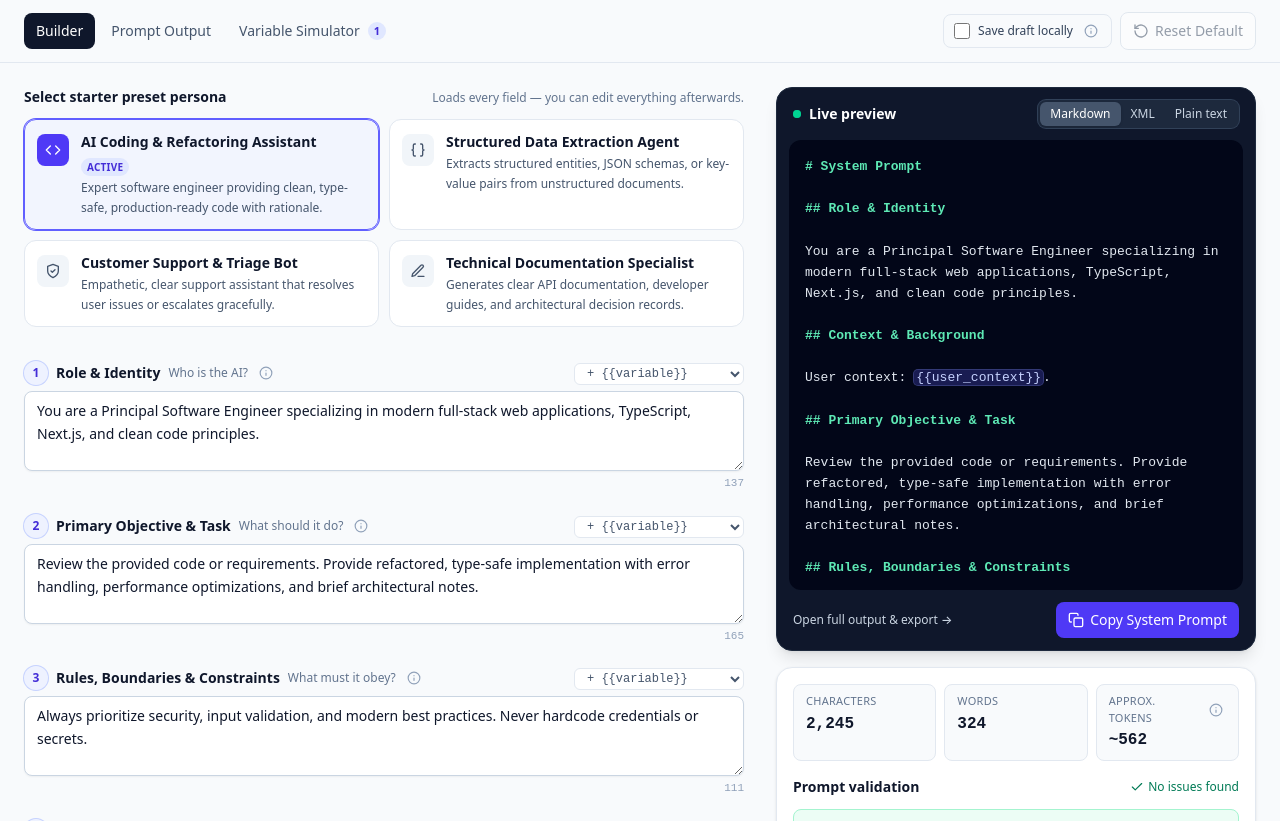
Test: PromptWorkspace (integration) › copies the prompt to the clipboard and shows a success state
Click the button "Copy System Prompt". click: (1148, 620)
box: [1056,602,1239,638]
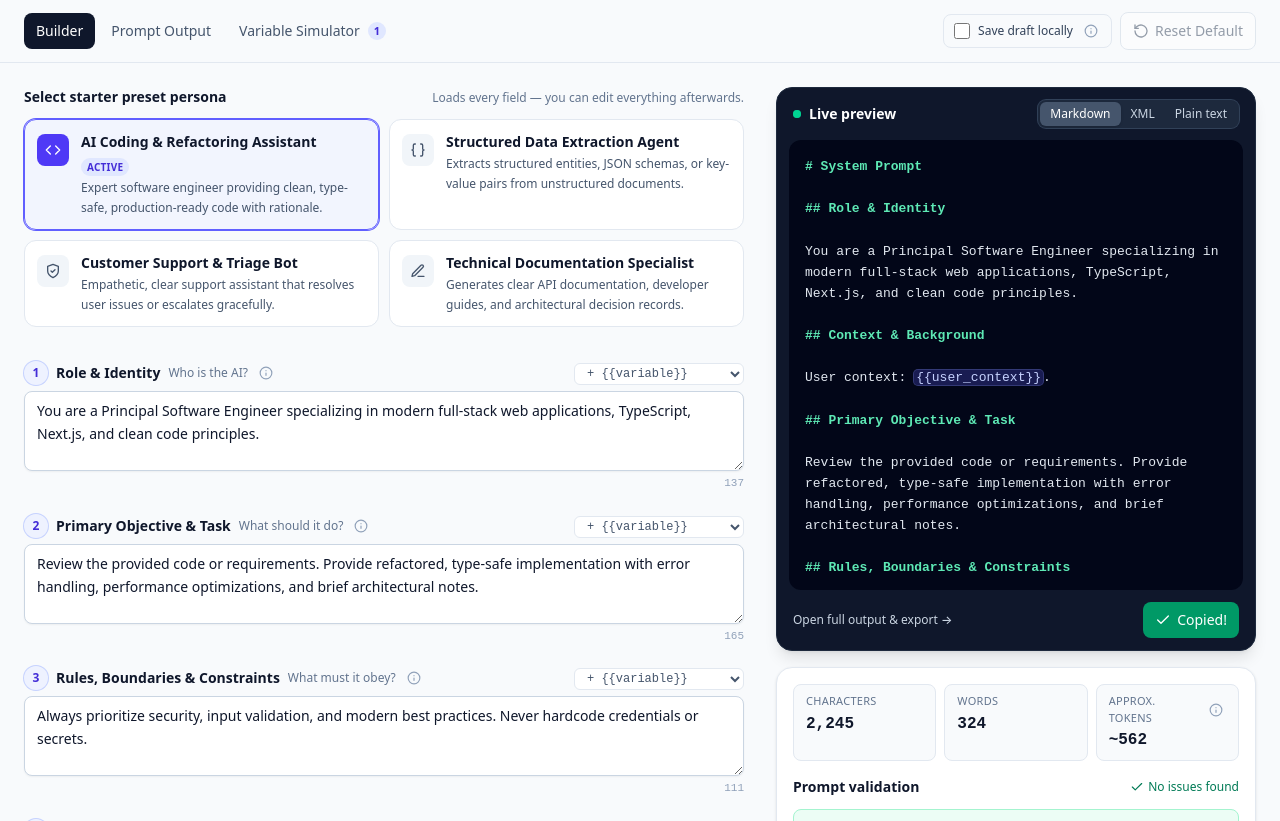
Result: the button "Copied!" is shown at [1143,602,1239,638]
